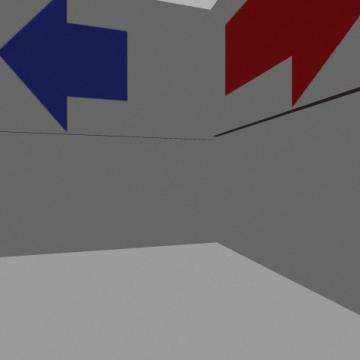blue_left: (0, 0, 127, 130)
red_right: (225, 0, 359, 105)
